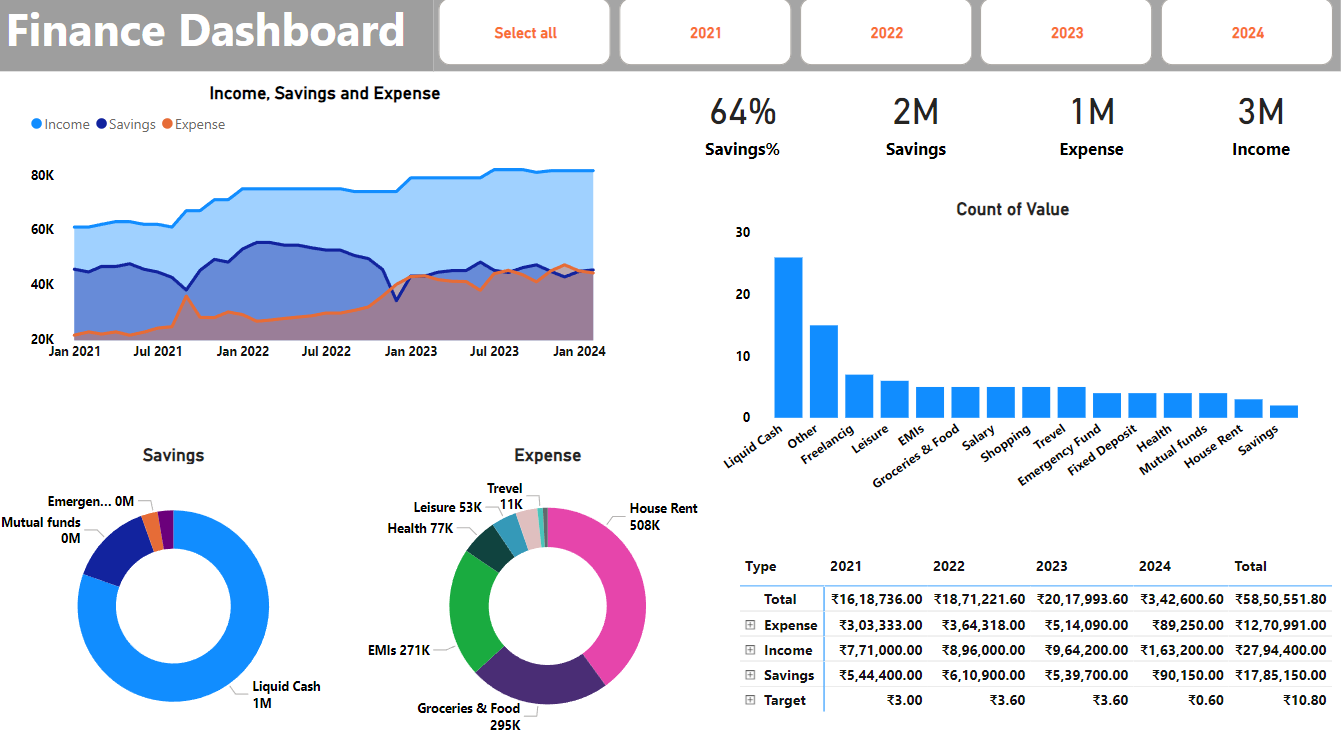

What the dashboard file says about the page in this screenshot:
{"tool":"powerbi","page":{"name":"Page 1","canvas":[1280,720],"ordinal":0},"visuals":[{"type":"card","fields":{"Values":["Dataset.Income"]},"box":[1147.4,74.4,108,92.4],"z":0},{"type":"card","fields":{"Values":["Dataset.Savings"]},"box":[799.3,74.4,146.4,92.4],"z":1000},{"type":"card","fields":{"Values":["Dataset.Expense"]},"box":[965,74.4,150,92.4],"z":2000},{"type":"card","fields":{"Values":["Dataset.Savings%"]},"box":[648.1,74.4,118.8,92.4],"z":3000},{"type":"advancedSlicerVisual","fields":{"Values":["Dataset.Year"]},"box":[412.9,0,864,74.4],"z":4000},{"type":"donutChart","title":"Savings","fields":{"Category":["Dataset.Component"],"Y":["Dataset.Savings"]},"box":[1.7,430,328.3,290],"z":5000},{"type":"donutChart","title":"Expense","fields":{"Category":["Dataset.Component"],"Y":["Dataset.Expense"]},"box":[345,430,355,290],"z":6000},{"type":"pivotTable","fields":{"Values":["Dataset.Total_Value"],"Rows":["Dataset.Type","Dataset.Component"],"Columns":["Dataset.Year"]},"box":[700,528.3,578.3,173.3],"z":7000},{"type":"areaChart","title":"Income, Savings and Expense ","fields":{"Category":["Dataset.Date.Variation.Date Hierarchy.Year","Dataset.Date.Variation.Date Hierarchy.Quarter","Dataset.Date.Variation.Date Hierarchy.Month","Dataset.Date.Variation.Date Hierarchy.Day"],"Y":["Dataset.Income","Dataset.Savings","Dataset.Expense"]},"box":[24,85.2,571.3,274.8],"z":8000},{"type":"textbox","box":[0,0,412.9,74.4],"z":9000},{"type":"columnChart","title":"Count of Value","fields":{"Category":["Dataset.Component"],"Y":["Count(Dataset.Value)"]},"box":[674.5,195.6,580.9,295.2],"z":10000}]}

Visuals, with their boxes in screenshot pixels (x1, y1, x2, y2), scaled from the page's 1280x720 canvas onto the 1343x748 screenshot:
card - Dataset.Income: bbox=(1204, 77, 1317, 173)
card - Dataset.Savings: bbox=(839, 77, 992, 173)
card - Dataset.Expense: bbox=(1012, 77, 1170, 173)
card - Dataset.Savings%: bbox=(680, 77, 805, 173)
advancedSlicerVisual - Dataset.Year: bbox=(433, 0, 1340, 77)
"Savings" donutChart: bbox=(2, 447, 346, 747)
"Expense" donutChart: bbox=(362, 447, 734, 747)
pivotTable - Dataset.Total_Value x Dataset.Type: bbox=(734, 549, 1341, 729)
"Income, Savings and Expense " areaChart: bbox=(25, 89, 625, 374)
textbox: bbox=(0, 0, 433, 77)
"Count of Value" columnChart: bbox=(708, 203, 1317, 510)
